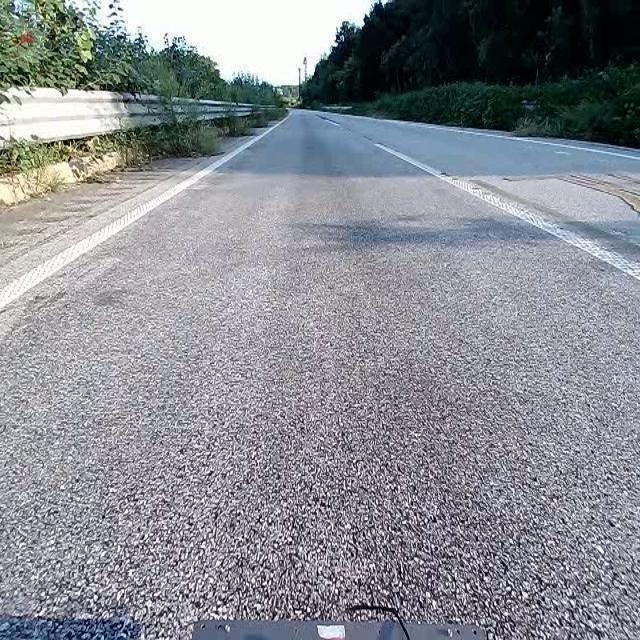Lane: (0, 102, 292, 313), (0, 120, 283, 312), (376, 136, 639, 288), (375, 143, 639, 281)
